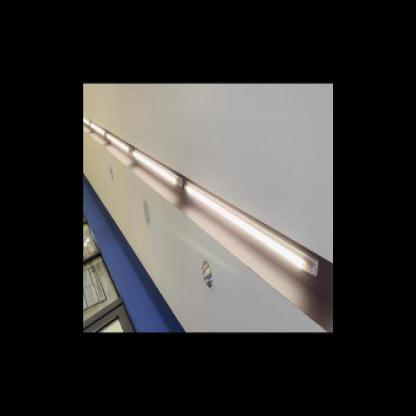light_on: (183, 180, 322, 282), (130, 146, 180, 189), (103, 130, 133, 157), (89, 119, 104, 136), (83, 118, 89, 128)
